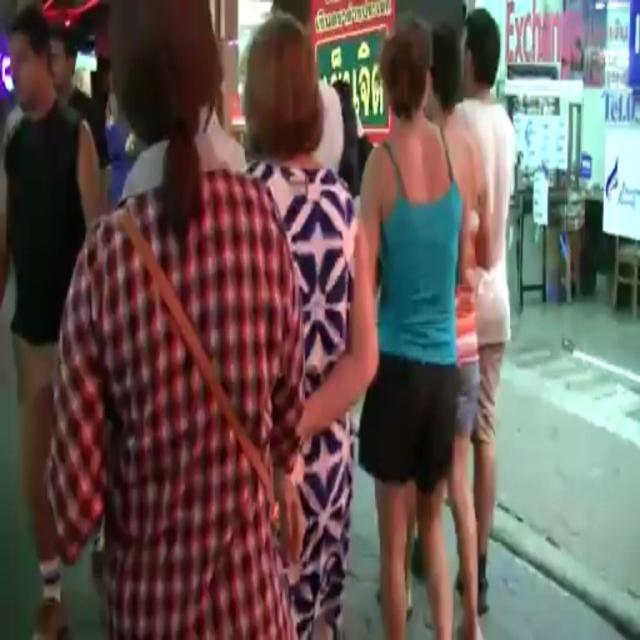body: (41, 0, 313, 639), (239, 10, 381, 640), (354, 19, 476, 637), (0, 0, 108, 639), (421, 12, 493, 638), (454, 4, 518, 618), (275, 1, 375, 194), (53, 21, 131, 207), (199, 49, 248, 173)
